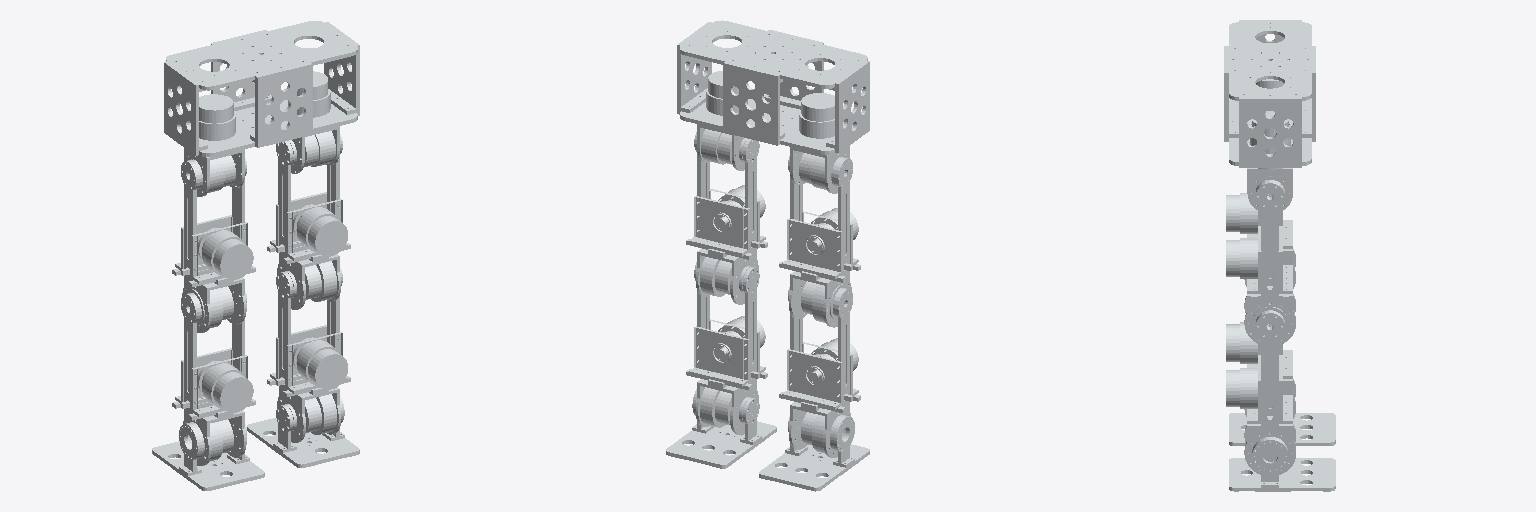
robot.urdf — bipedv5:
<?xml version="1.0" encoding="utf-8"?>

<robot name="bipedv5" xmlns:xacro="http://www.ros.org/wiki/xacro">


  <link
    name="base_link">
    <inertial>
      <origin
        xyz="2.1238E-08 2.3955E-08 -0.088578"
        rpy="0 0 0" />
      <mass
        value="6.04" />
      <inertia
        ixx="0.011504"
        ixy="1.2206E-11"
        ixz="4.4303E-12"
        iyy="0.026033"
        iyz="-8.6187E-14"
        izz="0.028285" />
    </inertial>
    <visual>
      <!-- <origin rpy="0 0 0" xyz="0.0 0.0 -0.08"/>
        <geometry>
            <box size="0.35 0.15 0.15"/>
        </geometry> -->
      <origin
        xyz="0 0 0"
        rpy="0 0 0" />
      <geometry>
        <mesh
          filename="package://bipedv5/meshes/base_link.STL" />
      </geometry>
      <material
        name="">
        <color
          rgba="0.89804 0.91765 0.92941 1" />
      </material>
    </visual>
    <collision>
     <origin rpy="0 0 0" xyz="0.0 0.0 -0.08"/>
      <geometry>
          <box size="0.35 0.15 0.15"/>
      </geometry>
    </collision>
  </link>
  <link
    name="left_yaw_Link">
    <inertial>
      <origin
        xyz="-0.0022679 -6.4337E-09 -0.043526"
        rpy="0 0 0" />
      <mass
        value="1.2202" />
      <inertia
        ixx="0.0010452"
        ixy="-7.8902E-18"
        ixz="3.289E-05"
        iyy="0.0011182"
        iyz="-2.6039E-18"
        izz="0.0010959" />
    </inertial>
    <visual>
      <origin
        xyz="0 0 0"
        rpy="0 0 0" />
      <geometry>
        <mesh
          filename="package://bipedv5/meshes/left_yaw_Link.STL" />
      </geometry>
      <material
        name="">
        <color
          rgba="0.89804 0.91765 0.92941 1" />
      </material>
      <!-- <origin rpy="0 0 0" xyz="0 0 -0.007"/>
      <geometry>
          <box size="0.1 0.08 0.03"/>
      </geometry> -->
    </visual>
    <collision>
       <origin rpy="0 0 0" xyz="0 0 -0.007"/>
      <geometry>
          <box size="0.1 0.08 0.03"/>
      </geometry>
    </collision>
  </link>
  <joint
    name="ly"
    type="revolute">
    <origin
      xyz="-0.10249983089623 0 -0.161999985662556"
      rpy="0 0 0" />
    <parent
      link="base_link" />
    <child
      link="left_yaw_Link" />
    <axis
      xyz="0 0 1" />
    <limit
      lower="-10"
      upper="10"
      effort="100"
      velocity="100" />
  </joint>
  <link
    name="left_hip_Link">
    <inertial>
      <origin
        xyz="0.055101 -0.022328 -0.14329"
        rpy="0 0 0" />
      <mass
        value="1.9263" />
      <inertia
        ixx="0.0027475"
        ixy="1.6208E-11"
        ixz="-2.5502E-05"
        iyy="0.0033682"
        iyz="8.3025E-07"
        izz="0.0013004" />
    </inertial>
    <visual>
       <!-- <origin rpy="0 0 0" xyz="0.055 0 -0.076"/>
        <geometry>
            <box size="0.12 0.06 0.206"/>
        </geometry> -->
      <origin
        xyz="0 0 0"
        rpy="0 0 0" />
      <geometry>
        <mesh
          filename="package://bipedv5/meshes/left_hip_Link.STL" />
      </geometry>
      <material
        name="">
        <color
          rgba="0.89804 0.91765 0.92941 1" />
      </material>
    </visual>
    <collision>
      <origin rpy="0 0 0" xyz="0.055 0 -0.076"/>
        <geometry>
            <box size="0.12 0.06 0.206"/>
        </geometry>
    </collision>
  </link>
  <joint
    name="lh"
    type="revolute">
    <origin
      xyz="-0.0565000055020701 0 -0.0539999662335701"
      rpy="0 0 0" />
    <parent
      link="left_yaw_Link" />
    <child
      link="left_hip_Link" />
    <axis
      xyz="-1 0 0" />
    <limit
      lower="-10"
      upper="10"
      effort="100"
      velocity="100" />
  </joint>
  <link
    name="left_knee_pri_Link">
    <inertial>
      <origin
        xyz="-0.003862 2.3753E-10 -0.070547"
        rpy="0 0 0" />
      <mass
        value="1.7288" />
      <inertia
        ixx="0.0013015"
        ixy="9.6218E-19"
        ixz="4.5849E-05"
        iyy="0.0013518"
        iyz="-1.1668E-18"
        izz="0.0012686" />
    </inertial>
    <visual>
      <origin
        xyz="0 0 0"
        rpy="0 0 0" />
      <geometry>
        <mesh
          filename="package://bipedv5/meshes/left_knee_pri_Link.STL" />
      </geometry>
      <material
        name="">
        <color
          rgba="0.89804 0.91765 0.92941 1" />
      </material>
        <!-- <origin rpy="0 0 0" xyz="0.0 0 -0.01"/>
        <geometry>
            <box size="0.14 0.06 0.04"/>
        </geometry> -->
    </visual>
    <collision>
      <origin rpy="0 0 0" xyz="0.0 0 -0.01"/>
        <geometry>
            <box size="0.14 0.06 0.04"/>
        </geometry>
    </collision>
  </link>
  <joint
    name="lkp"
    type="prismatic">
    <origin
      xyz="0.0564999588174406 0 -0.192000034377183"
      rpy="0 0 0" />
    <parent
      link="left_hip_Link" />
    <child
      link="left_knee_pri_Link" />
    <axis
      xyz="1 0 0" />
    <limit
      lower="-0.1"
      upper="0.1"
      effort="100"
      velocity="100" />
  </joint>
  <link
    name="left_knee_Link">
    <inertial>
      <origin
        xyz="0.055101 -0.022328 -0.14329"
        rpy="0 0 0" />
      <mass
        value="1.9263" />
      <inertia
        ixx="0.0027475"
        ixy="1.6208E-11"
        ixz="-2.5502E-05"
        iyy="0.0033682"
        iyz="8.3025E-07"
        izz="0.0013004" />
    </inertial>
    <visual>
      <origin
        xyz="0 0 0"
        rpy="0 0 0" />
      <geometry>
        <mesh
          filename="package://bipedv5/meshes/left_knee_Link.STL" />
      </geometry>
      <material
        name="">
        <color
          rgba="0.89804 0.91765 0.92941 1" />
      </material>
      <!-- <origin rpy="0 0 0" xyz="0.055 0 -0.065"/>
        <geometry>
            <box size="0.12 0.06 0.23"/>
        </geometry> -->
    </visual>
    <collision>
      <origin rpy="0 0 0" xyz="0.055 0 -0.065"/>
        <geometry>
            <box size="0.12 0.06 0.23"/>
        </geometry>
    </collision>
  </link>
  <joint
    name="lk"
    type="revolute">
    <origin
      xyz="-0.0564999588174406 0 -0.082999965622817"
      rpy="0 0 0" />
    <parent
      link="left_knee_pri_Link" />
    <child
      link="left_knee_Link" />
    <axis
      xyz="1 0 0" />
    <limit
      lower="-10"
      upper="10"
      effort="100"
      velocity="100" />
  </joint>
  <link
    name="left_ankle_pri_Link">
    <inertial>
      <origin
        xyz="-0.003862 2.3753E-10 -0.070547"
        rpy="0 0 0" />
      <mass
        value="1.7288" />
      <inertia
        ixx="0.0013015"
        ixy="-5.5659E-19"
        ixz="4.5849E-05"
        iyy="0.0013518"
        iyz="1.5099E-18"
        izz="0.0012686" />
    </inertial>
    <visual>
      <origin
        xyz="0 0 0"
        rpy="0 0 0" />
      <geometry>
        <mesh
          filename="package://bipedv5/meshes/left_ankle_pri_Link.STL" />
      </geometry>
      <material
        name="">
        <color
          rgba="0.89804 0.91765 0.92941 1" />
      </material>
        <!-- <origin rpy="0 0 0" xyz="0.0 0 -0.06"/>
        <geometry>
            <box size="0.14 0.06 0.14"/>
        </geometry> -->
    </visual>
    <collision>
      <origin rpy="0 0 0" xyz="0.0 0 -0.06"/>
        <geometry>
            <box size="0.14 0.06 0.14"/>
        </geometry>
    </collision>
  </link>
  <joint
    name="lap"
    type="prismatic">
    <origin
      xyz="0.0564999588174406 0 -0.192000034377183"
      rpy="0 0 0" />
    <parent
      link="left_knee_Link" />
    <child
      link="left_ankle_pri_Link" />
    <axis
      xyz="1 0 0" />
    <limit
      lower="-0.1"
      upper="0.1"
      effort="100"
      velocity="100" />
  </joint>
  <link
    name="left_ankle_Link">
    <inertial>
      <origin
        xyz="0.054123 0.015256 -0.051677"
        rpy="0 0 0" />
      <mass
        value="0.72668" />
      <inertia
        ixx="0.0020048"
        ixy="-2.246E-18"
        ixz="-7.9275E-07"
        iyy="0.00089396"
        iyz="-9.1373E-07"
        izz="0.0027066" />
    </inertial>
    <visual>
      <origin
        xyz="0 0 0"
        rpy="0 0 0" />
      <geometry>
        <mesh
          filename="package://bipedv5/meshes/left_ankle_Link.STL" />
      </geometry>
      <material
        name="">
        <color
          rgba="0.89804 0.91765 0.92941 1" />
      </material>
      <!-- <origin rpy="0 0 0" xyz="0.055 0.02 -0.06"/>
        <geometry>
            <box size="0.14 0.22 0.01"/>
        </geometry> -->
    </visual>
    <collision>
     <origin rpy="0 0 0" xyz="0.055 0.02 -0.06"/>
        <geometry>
            <box size="0.14 0.22 0.01"/>
        </geometry>
    </collision>
  </link>
  <joint
    name="la"
    type="revolute">
    <origin
      xyz="-0.0565000033098504 0 -0.0830000104027589"
      rpy="0 0 0" />
    <parent
      link="left_ankle_pri_Link" />
    <child
      link="left_ankle_Link" />
    <axis
      xyz="1 0 0" />
    <limit
      lower="-10"
      upper="10"
      effort="100"
      velocity="100" />
  </joint>

  <link
    name="right_yaw_Link">
    <inertial>
      <origin
        xyz="0.0022679 -6.4337E-09 -0.043526"
        rpy="0 0 0" />
      <mass
        value="1.2202" />
      <inertia
        ixx="0.0010452"
        ixy="-2.0231E-18"
        ixz="-3.289E-05"
        iyy="0.0011182"
        iyz="6.9424E-19"
        izz="0.0010959" />
    </inertial>
    <visual>
     <!-- <origin rpy="0 0 0" xyz="0 0 -0.007"/>
      <geometry>
          <box size="0.1 0.08 0.03"/>
      </geometry> -->
      <origin
        xyz="0 0 0"
        rpy="0 0 0" />
      <geometry>
        <mesh
          filename="package://bipedv5/meshes/right_yaw_Link.STL" />
      </geometry>
      <material
        name="">
        <color
          rgba="0.89804 0.91765 0.92941 1" />
      </material>
    </visual>
    <collision>
     <origin rpy="0 0 0" xyz="0 0 -0.007"/>
      <geometry>
          <box size="0.1 0.08 0.03"/>
      </geometry>
    </collision>
  </link>
  <joint
    name="ry"
    type="revolute">
    <origin
      xyz="0.10249993812728 0 -0.161999985662556"
      rpy="0 0 0" />
    <parent
      link="base_link" />
    <child
      link="right_yaw_Link" />
    <axis
      xyz="0 0 -1" />
    <limit
      lower="-10"
      upper="10"
      effort="100"
      velocity="100" />
  </joint>
  <link
    name="right_hip_Link">
    <inertial>
      <origin
        xyz="-0.055101 -0.022328 -0.14329"
        rpy="0 0 0" />
      <mass
        value="1.9263" />
      <inertia
        ixx="0.0027475"
        ixy="1.9779E-11"
        ixz="2.5502E-05"
        iyy="0.0033682"
        iyz="8.3026E-07"
        izz="0.0013004" />
    </inertial>
    <visual>
      <origin
        xyz="0 0 0"
        rpy="0 0 0" />
      <geometry>
        <mesh
          filename="package://bipedv5/meshes/right_hip_Link.STL" />
      </geometry>
      <material
        name="">
        <color
          rgba="0.89804 0.91765 0.92941 1" />
      </material>
      <!-- <origin rpy="0 0 0" xyz="-0.055 0 -0.078"/>
        <geometry>
            <box size="0.12 0.06 0.21"/>
        </geometry> -->
    </visual>
    <collision>
      <origin rpy="0 0 0" xyz="-0.055 0 -0.078"/>
        <geometry>
            <box size="0.12 0.06 0.21"/>
        </geometry>
    </collision>
  </link>
  <joint
    name="rh"
    type="revolute">
    <origin
      xyz="0.0565000055020701 0 -0.0539999662335701"
      rpy="0 0 0" />
    <parent
      link="right_yaw_Link" />
    <child
      link="right_hip_Link" />
    <axis
      xyz="-1 0 0" />
    <limit
      lower="-10"
      upper="10"
      effort="100"
      velocity="100" />
  </joint>
  <link
    name="right_knee_pri_Link">
    <inertial>
      <origin
        xyz="0.003862 2.3753E-10 -0.070547"
        rpy="0 0 0" />
      <mass
        value="1.7288" />
      <inertia
        ixx="0.0013015"
        ixy="6.3708E-19"
        ixz="-4.5849E-05"
        iyy="0.0013518"
        iyz="2.0769E-18"
        izz="0.0012686" />
    </inertial>
    <visual>
      <origin
        xyz="0 0 0"
        rpy="0 0 0" />
      <geometry>
        <mesh
          filename="package://bipedv5/meshes/right_knee_pri_Link.STL" />
      </geometry>
      <material
        name="">
        <color
          rgba="0.89804 0.91765 0.92941 1" />
      </material>
      <!-- <origin rpy="0 0 0" xyz="0.0 0 -0.043"/>
        <geometry>
            <box size="0.14 0.06 0.1"/>
        </geometry> -->
    </visual>
    <collision>
     <origin rpy="0 0 0" xyz="0.0 0 -0.043"/>
        <geometry>
            <box size="0.14 0.06 0.1"/>
        </geometry>
    </collision>
  </link>
  <joint
    name="rkp"
    type="prismatic">
    <origin
      xyz="-0.0565 0 -0.192"
      rpy="0 0 0" />
    <parent
      link="right_hip_Link" />
    <child
      link="right_knee_pri_Link" />
    <axis
      xyz="1 0 0" />
    <limit
      lower="-0.1"
      upper="0.1"
      effort="100"
      velocity="100" />
  </joint>
  <link
    name="right_knee_Link">
    <inertial>
      <origin
        xyz="-0.055101 -0.022328 -0.14329"
        rpy="0 0 0" />
      <mass
        value="1.9263" />
      <inertia
        ixx="0.0027475"
        ixy="1.9779E-11"
        ixz="2.5502E-05"
        iyy="0.0033682"
        iyz="8.3026E-07"
        izz="0.0013004" />
    </inertial>
    <visual>
      <origin
        xyz="0 0 0"
        rpy="0 0 0" />
      <geometry>
        <mesh
          filename="package://bipedv5/meshes/right_knee_Link.STL" />
      </geometry>
      <material
        name="">
        <color
          rgba="0.89804 0.91765 0.92941 1" />
      </material>
       <!-- <origin rpy="0 0 0" xyz="-0.055 0 -0.097"/>
        <geometry>
            <box size="0.12 0.06 0.17"/>
        </geometry> -->
    </visual>
    <collision>
      <origin rpy="0 0 0" xyz="-0.055 0 -0.097"/>
        <geometry>
            <box size="0.12 0.06 0.17"/>
        </geometry>
    </collision>
  </link>
  <joint
    name="rk"
    type="revolute">
    <origin
      xyz="0.0564999588174397 0 -0.0829999656228171"
      rpy="0 0 0" />
    <parent
      link="right_knee_pri_Link" />
    <child
      link="right_knee_Link" />
    <axis
      xyz="1 0 0" />
    <limit
      lower="-10"
      upper="10"
      effort="100"
      velocity="100" />
  </joint>
  <link
    name="right_ankle_pri_Link">
    <inertial>
      <origin
        xyz="0.003862 2.3753E-10 -0.070547"
        rpy="0 0 0" />
      <mass
        value="1.7288" />
      <inertia
        ixx="0.0013015"
        ixy="5.2116E-19"
        ixz="-4.5849E-05"
        iyy="0.0013518"
        iyz="2.0394E-18"
        izz="0.0012686" />
    </inertial>
    <visual>
      <origin
        xyz="0 0 0"
        rpy="0 0 0" />
      <geometry>
        <mesh
          filename="package://bipedv5/meshes/right_ankle_pri_Link.STL" />
      </geometry>
      <material
        name="">
        <color
          rgba="0.89804 0.91765 0.92941 1" />
      </material>
       <!-- <origin rpy="0 0 0" xyz="0.0 0 -0.06"/>
        <geometry>
            <box size="0.14 0.06 0.14"/>
        </geometry> -->
    </visual>
    <collision>
     <origin rpy="0 0 0" xyz="0.0 0 -0.06"/>
        <geometry>
            <box size="0.14 0.06 0.14"/>
        </geometry>
    </collision>
  </link>
  <joint
    name="rap"
    type="prismatic">
    <origin
      xyz="-0.0564999588174397 0 -0.192000034377183"
      rpy="0 0 0" />
    <parent
      link="right_knee_Link" />
    <child
      link="right_ankle_pri_Link" />
    <axis
      xyz="1 0 0" />
    <limit
      lower="-0.1"
      upper="0.1"
      effort="100"
      velocity="100" />
  </joint>
  <link
    name="right_ankle_Link">
    <inertial>
      <origin
        xyz="-0.054123 0.015256 -0.051677"
        rpy="0 0 0" />
      <mass
        value="0.72668" />
      <inertia
        ixx="0.0020048"
        ixy="1.7327E-17"
        ixz="7.9275E-07"
        iyy="0.00089396"
        iyz="-9.1373E-07"
        izz="0.0027066" />
    </inertial>
    <visual>
       <!-- <origin rpy="0 0 0" xyz="-0.055 0.02 -0.06"/>
        <geometry>
            <box size="0.14 0.22 0.01"/>
        </geometry> -->
      <origin
        xyz="0 0 0"
        rpy="0 0 0" />
      <geometry>
        <mesh
          filename="package://bipedv5/meshes/right_ankle_Link.STL" />
      </geometry>
      <material
        name="">
        <color
          rgba="0.89804 0.91765 0.92941 1" />
      </material>
    </visual>
    <collision>
      <origin rpy="0 0 0" xyz="-0.055 0.02 -0.06"/>
        <geometry>
            <box size="0.14 0.22 0.01"/>
        </geometry>
    </collision>
  </link>
  <joint
    name="ra"
    type="revolute">
    <origin
      xyz="0.0565000033098499 0 -0.083000010402759"
      rpy="0 0 0" />
    <parent
      link="right_ankle_pri_Link" />
    <child
      link="right_ankle_Link" />
    <axis
      xyz="1 0 0" />
    <limit
      lower="-10"
      upper="10"
      effort="100"
      velocity="100" />
  </joint>



</robot>

--- What the picture shows (computed from the rendered views, not written in the file) ---
The picture shows the robot from 3 angles, left to right: view 1: azimuth 30°, elevation 25°; view 2: azimuth 150°, elevation 25°; view 3: azimuth 270°, elevation 25°; orthographic projection.
Robot: bipedv5 — 13 links, 12 joints (8 revolute, 4 prismatic); root link base_link; default pose: all joints at 0.
Links seen in each view (by area): view 1: base_link, left_hip_Link, left_knee_Link, right_hip_Link, right_knee_Link, left_ankle_Link, right_ankle_Link, right_knee_pri_Link, right_ankle_pri_Link, left_knee_pri_Link, left_ankle_pri_Link, left_yaw_Link (+1 smaller); view 2: base_link, left_hip_Link, left_knee_Link, right_hip_Link, right_knee_Link, left_ankle_Link, right_ankle_Link, right_knee_pri_Link, right_ankle_pri_Link, left_knee_pri_Link, left_ankle_pri_Link, left_yaw_Link (+1 smaller); view 3: base_link, right_hip_Link, right_knee_Link, right_ankle_Link, left_ankle_Link, left_hip_Link, right_knee_pri_Link, left_knee_Link, right_ankle_pri_Link, right_yaw_Link.
Boxes of the visible links, bbox=[...] form: base_link: bbox=[164, 21, 359, 156]; left_hip_Link: bbox=[172, 158, 255, 286]; left_knee_Link: bbox=[172, 291, 255, 420]; right_hip_Link: bbox=[267, 134, 350, 264]; right_knee_Link: bbox=[267, 267, 350, 397]; left_ankle_Link: bbox=[152, 422, 264, 490]; right_ankle_Link: bbox=[247, 396, 359, 467]; right_knee_pri_Link: bbox=[276, 241, 340, 309]; right_ankle_pri_Link: bbox=[276, 374, 340, 442]; left_knee_pri_Link: bbox=[181, 264, 246, 332]; left_ankle_pri_Link: bbox=[181, 397, 246, 465]; left_yaw_Link: bbox=[184, 148, 244, 196]; base_link: bbox=[677, 20, 869, 154]; left_hip_Link: bbox=[779, 156, 860, 282]; left_knee_Link: bbox=[779, 287, 860, 412]; right_hip_Link: bbox=[686, 132, 767, 259]; right_knee_Link: bbox=[686, 262, 767, 390]; left_ankle_Link: bbox=[759, 415, 869, 491]; right_ankle_Link: bbox=[666, 389, 776, 468]; right_knee_pri_Link: bbox=[696, 241, 759, 304]; right_ankle_pri_Link: bbox=[696, 371, 759, 435]; left_knee_pri_Link: bbox=[789, 263, 852, 327]; left_ankle_pri_Link: bbox=[789, 394, 852, 457]; left_yaw_Link: bbox=[790, 146, 849, 193]; base_link: bbox=[1224, 20, 1315, 169]; right_hip_Link: bbox=[1226, 180, 1292, 299]; right_knee_Link: bbox=[1226, 310, 1292, 429]; right_ankle_Link: bbox=[1229, 437, 1335, 491]; left_ankle_Link: bbox=[1229, 413, 1335, 445]; left_hip_Link: bbox=[1226, 193, 1292, 254]; right_knee_pri_Link: bbox=[1244, 286, 1295, 344]; left_knee_Link: bbox=[1226, 322, 1292, 384]; right_ankle_pri_Link: bbox=[1244, 416, 1295, 474]; right_yaw_Link: bbox=[1247, 168, 1292, 211].
Size in the robot's own frame: 0.356 by 0.213 by 0.835 metres.
Meshes: 13 distinct files referenced, 13 mesh visuals loaded (13 binary STL).